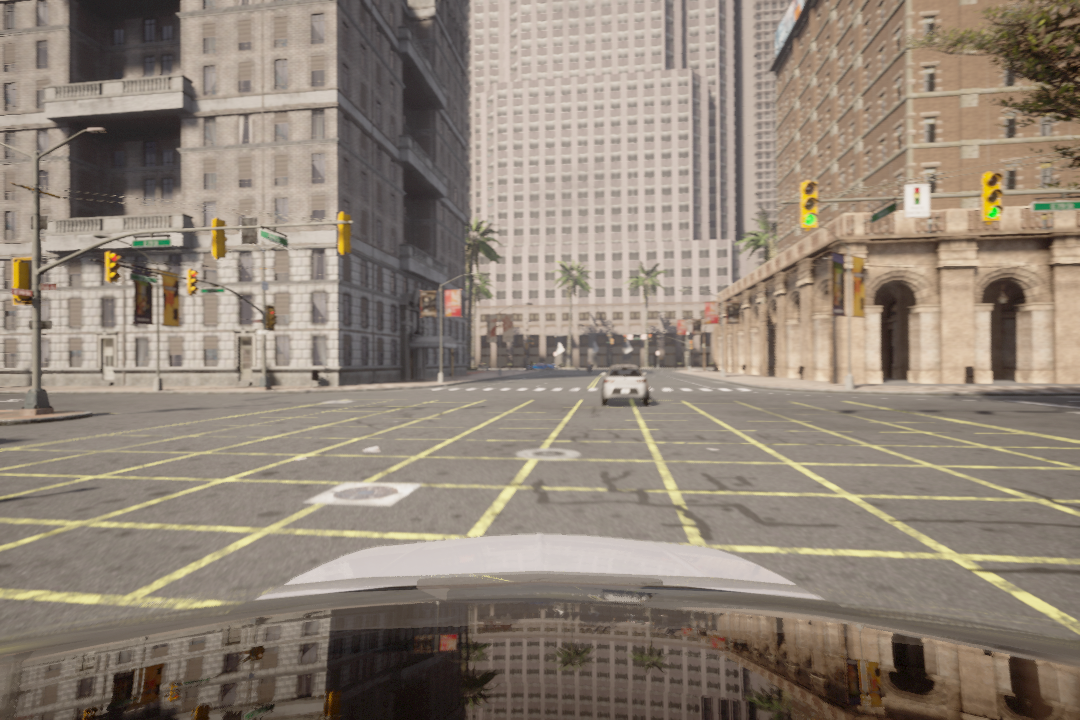TrafficLight: (978, 171, 1003, 224), (798, 181, 819, 227), (100, 249, 124, 286), (184, 271, 199, 296)
walkside: (429, 384, 756, 394)
